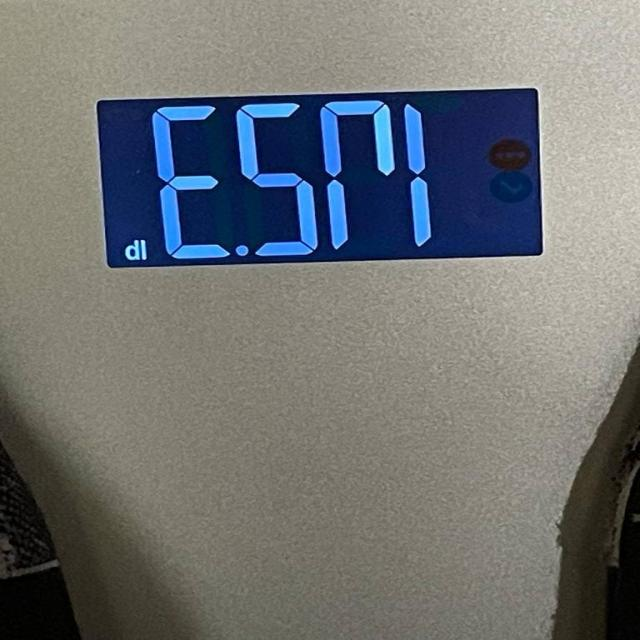ws: (1, 0, 640, 639)
